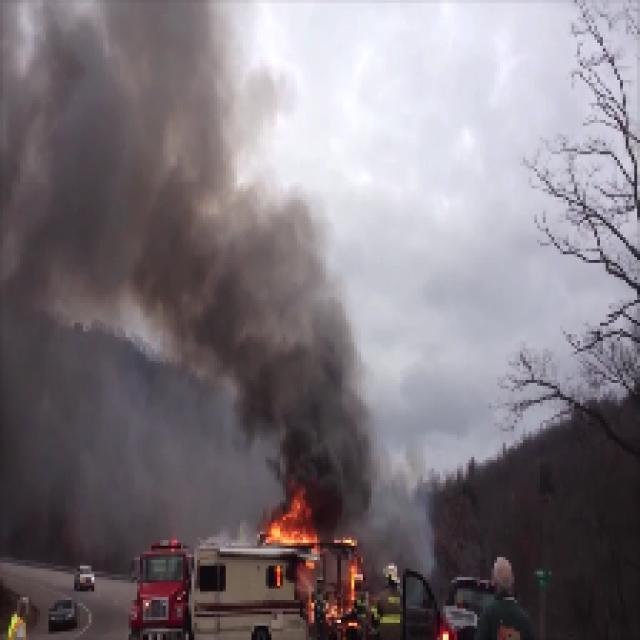smoke: (54, 46, 143, 284), (149, 204, 255, 359), (260, 346, 350, 490)
